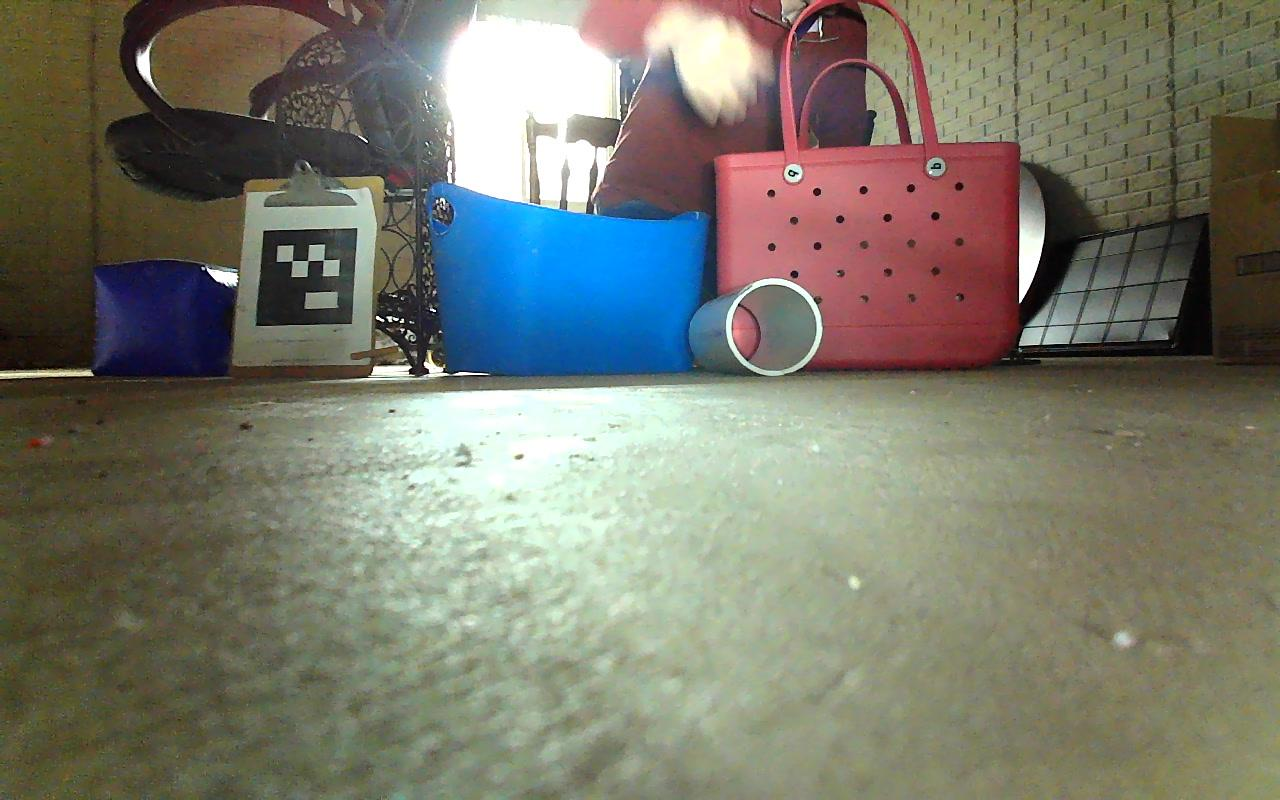coral: (685, 276, 822, 376)
